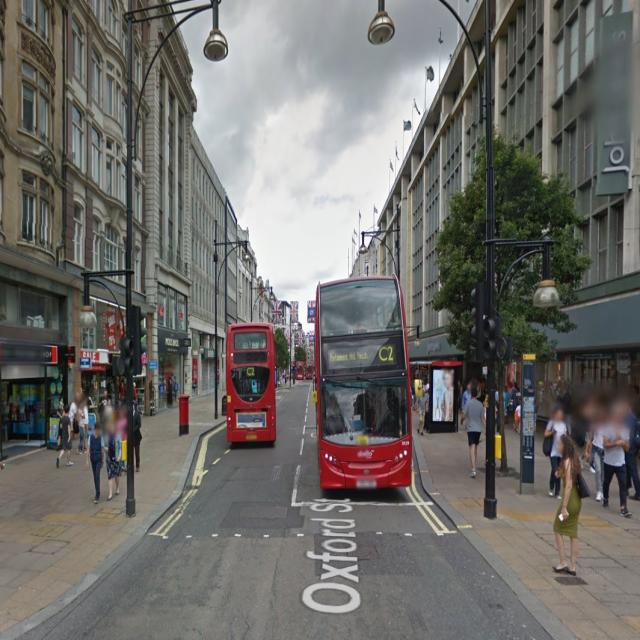body: (458, 375, 576, 435), (550, 431, 592, 578), (601, 400, 634, 518), (460, 386, 486, 478), (543, 404, 567, 500), (320, 304, 400, 332), (82, 419, 104, 507), (104, 415, 125, 502), (623, 398, 640, 501), (578, 408, 596, 475), (55, 403, 73, 469), (590, 427, 605, 502), (0, 401, 42, 424), (324, 396, 345, 436), (440, 368, 455, 422), (157, 370, 180, 405), (133, 400, 143, 473), (67, 392, 80, 442), (416, 386, 428, 436), (275, 371, 314, 386), (233, 377, 267, 394), (76, 399, 86, 456), (98, 388, 110, 434), (55, 401, 65, 451), (81, 379, 94, 412), (426, 374, 432, 434), (82, 404, 89, 451), (114, 409, 126, 435), (106, 379, 128, 393), (408, 376, 416, 412), (132, 381, 139, 412), (121, 436, 126, 478), (57, 400, 66, 420), (104, 398, 114, 415), (130, 396, 138, 417), (192, 372, 198, 396), (416, 373, 425, 386)
